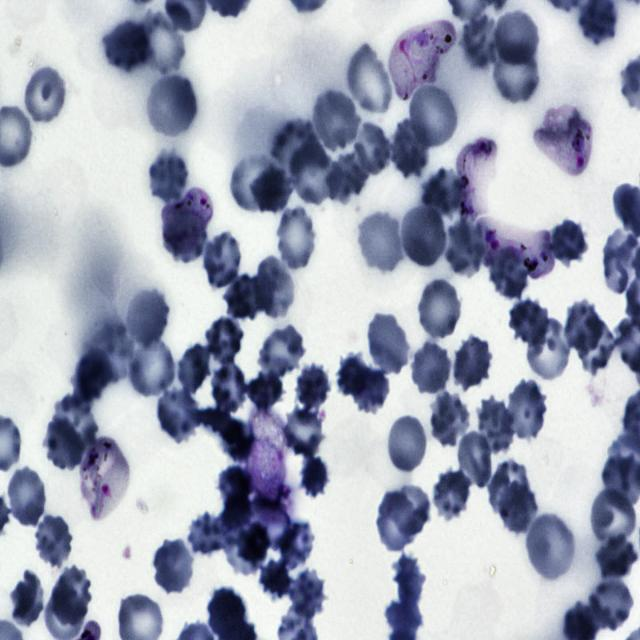red blood cell: (524, 510, 577, 583), (344, 42, 394, 119), (406, 81, 459, 150), (144, 73, 198, 140), (489, 40, 541, 107), (291, 138, 343, 203), (357, 208, 407, 275), (310, 88, 360, 154), (491, 6, 541, 70), (20, 64, 69, 128), (364, 310, 412, 375), (122, 285, 171, 348), (127, 334, 176, 396), (504, 378, 549, 443), (138, 10, 184, 73), (222, 272, 278, 323), (527, 319, 572, 382), (324, 146, 374, 202), (586, 576, 635, 633), (589, 488, 637, 546), (418, 278, 461, 342), (5, 465, 48, 529), (258, 324, 308, 379), (488, 458, 533, 519), (102, 17, 150, 74), (574, 314, 618, 376), (230, 154, 276, 212), (49, 567, 94, 626), (401, 206, 443, 268), (409, 339, 453, 397), (388, 120, 431, 179), (155, 386, 200, 442), (201, 232, 244, 290), (255, 256, 295, 318), (385, 414, 427, 473), (378, 487, 416, 552), (146, 149, 190, 205), (151, 539, 195, 595), (277, 208, 316, 270), (456, 430, 496, 490), (32, 513, 74, 569), (488, 246, 530, 302), (280, 406, 326, 457), (445, 218, 486, 275), (54, 392, 99, 443), (592, 532, 638, 581), (40, 415, 80, 471), (452, 336, 493, 390), (496, 481, 536, 536), (476, 398, 514, 455), (564, 300, 604, 354), (209, 362, 249, 416), (431, 391, 470, 446), (421, 168, 463, 219), (432, 470, 473, 522), (506, 300, 552, 346), (249, 166, 293, 214), (272, 118, 314, 168), (294, 362, 333, 415), (461, 15, 500, 68), (548, 218, 589, 268), (355, 122, 392, 177), (390, 487, 433, 534), (205, 315, 246, 363), (352, 365, 391, 413), (335, 351, 373, 399), (8, 576, 44, 626), (278, 520, 314, 569), (176, 344, 210, 394), (291, 567, 325, 617), (249, 367, 284, 412), (237, 520, 270, 566), (260, 558, 295, 601), (298, 452, 330, 499), (189, 511, 222, 556)
ring: (162, 185, 213, 252)
trophozoite: (387, 19, 456, 103), (477, 217, 556, 280), (80, 435, 132, 521), (535, 106, 594, 177), (456, 136, 497, 222)
